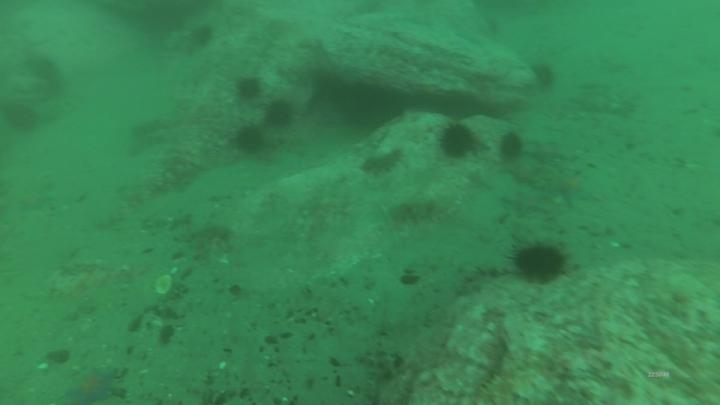echinus: (505, 240, 573, 285), (1, 99, 44, 136), (30, 57, 64, 93), (191, 23, 214, 49)
holothurian: (387, 199, 443, 227), (359, 147, 408, 177)
starfish: (63, 367, 121, 405), (538, 174, 590, 210), (439, 121, 481, 162), (500, 191, 554, 221), (522, 142, 571, 169), (502, 160, 548, 187), (234, 122, 267, 155), (263, 100, 297, 132), (497, 133, 525, 165), (235, 75, 266, 103), (531, 61, 558, 89)
